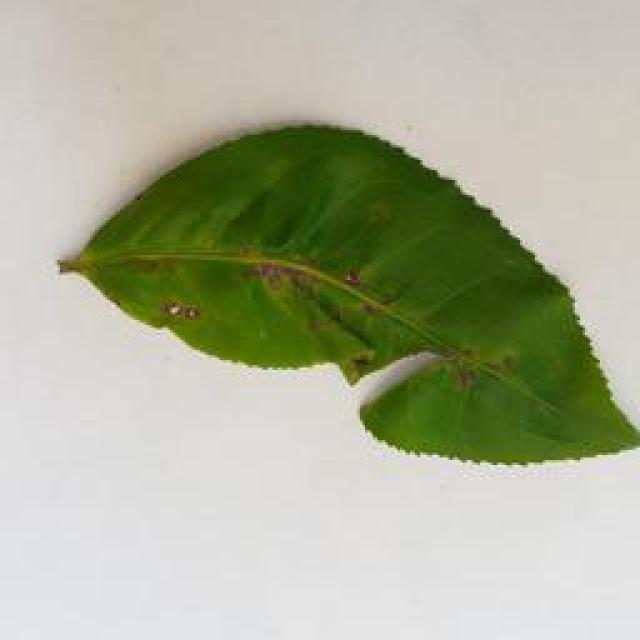Helopeltis: (52, 124, 640, 469)
